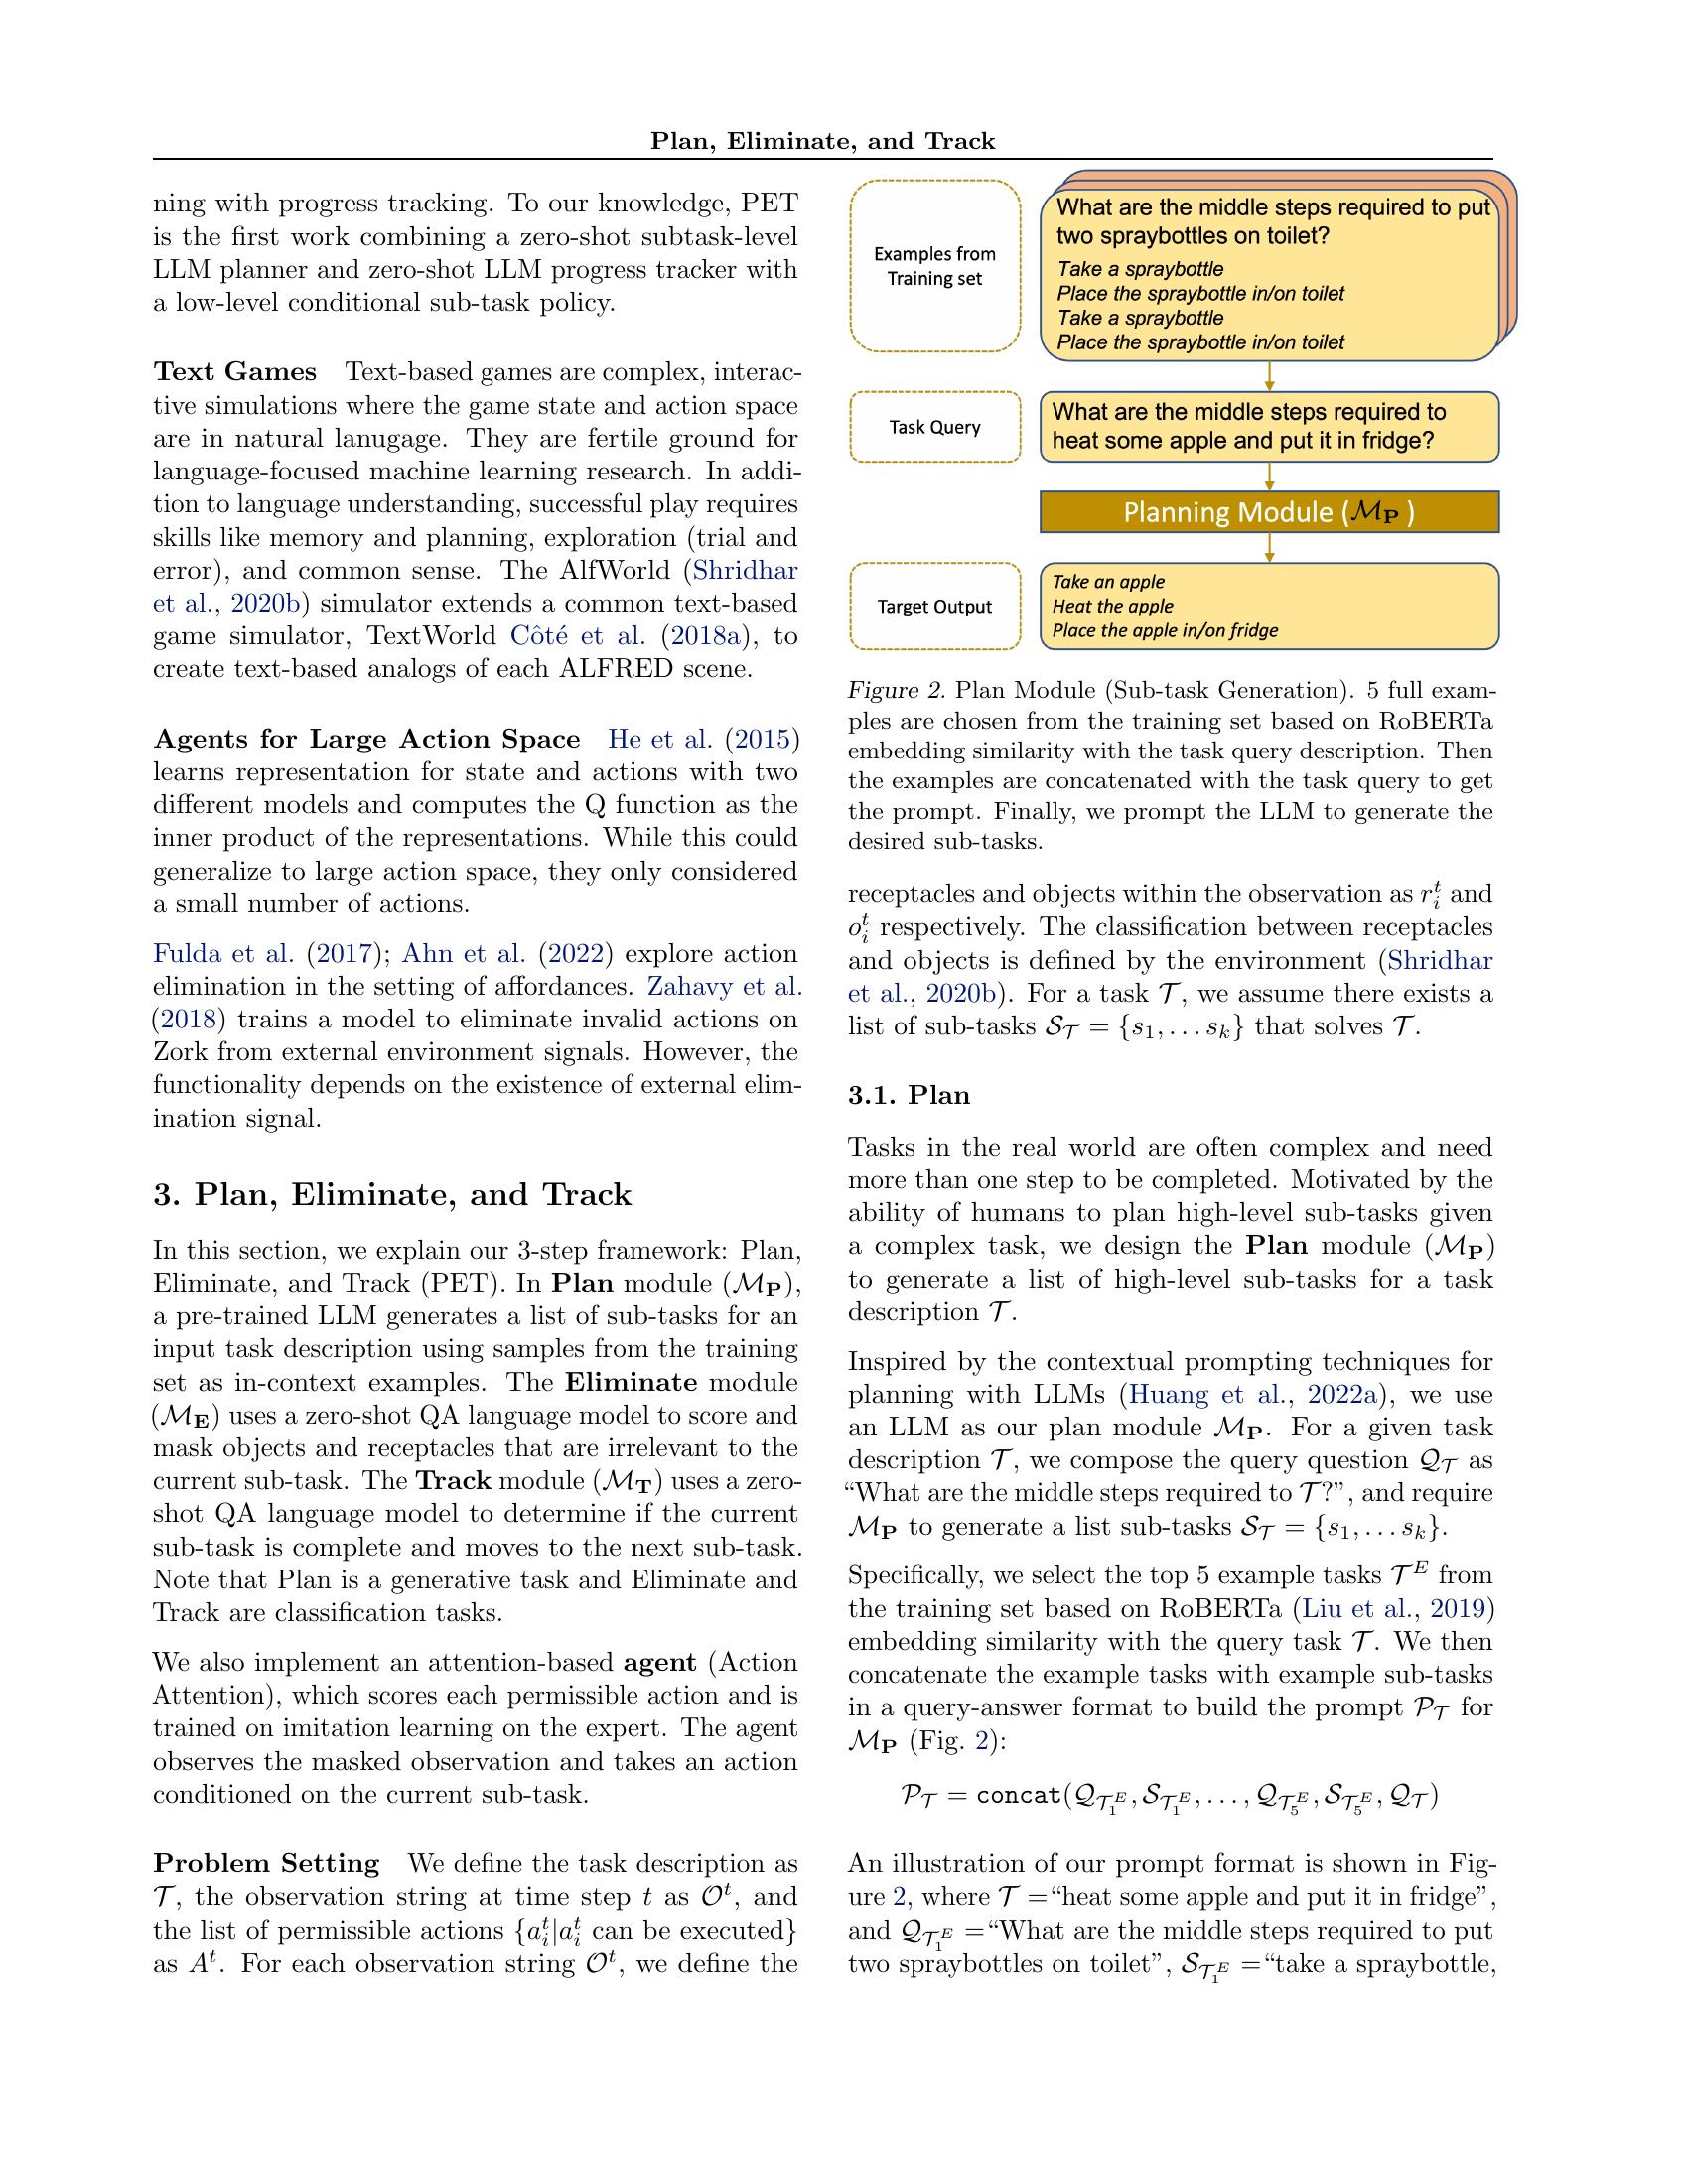figure: (839, 161, 1525, 862)
text: (833, 872, 1512, 1994), (144, 184, 819, 1142), (137, 1165, 812, 1996)
